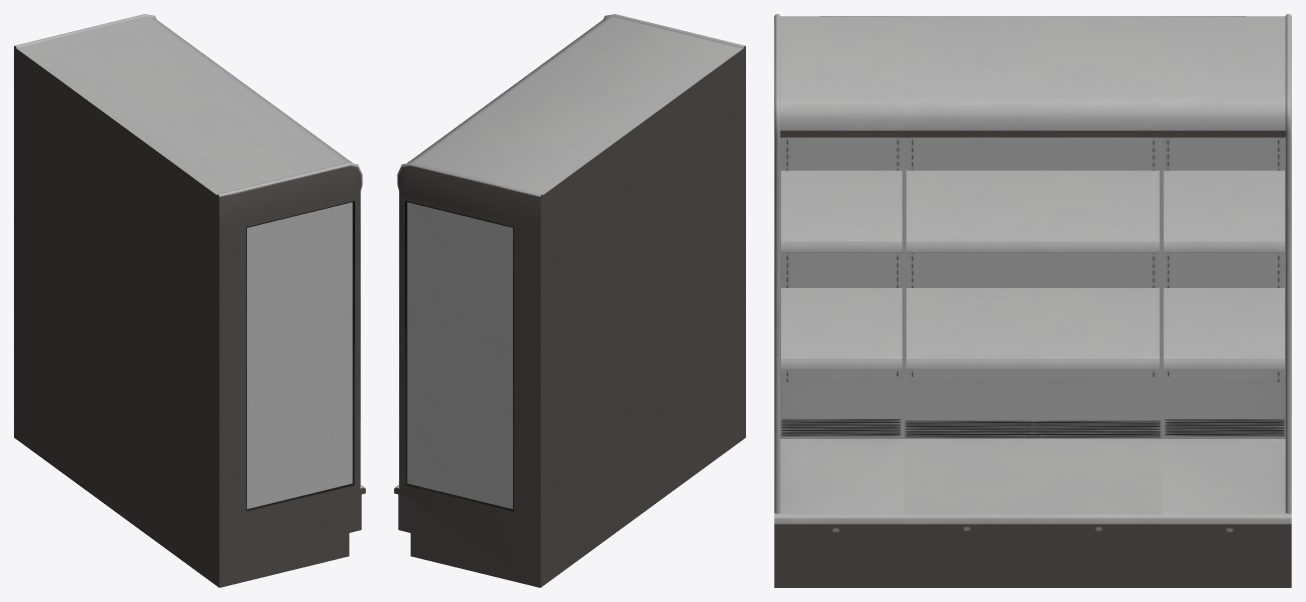
File: big_fridge (5).fbx
3 views of the same model, side by side, from view 1: azimuth 30°, elevation 25°; view 2: azimuth 150°, elevation 25°; view 3: azimuth 270°, elevation 25° (orthographic). The views are drawn at different scales.
Parts seen in each view (by area): view 1: big_fridge_l, big_fridge_m, big_fridge_r; view 2: big_fridge_r, big_fridge_m, big_fridge_l; view 3: big_fridge_m, big_fridge_l, big_fridge_r, big_fridge_shelf_m_1, big_fridge_shelf_m, big_fridge_shelf_l__1_, big_fridge_shelf_r_1, big_fridge_shelf_l, big_fridge_shelf_r.
Boxes of the visible parts, x1,y1,x2,y2 form: big_fridge_l: [168, 127, 365, 587]; big_fridge_m: [65, 52, 306, 549]; big_fridge_r: [14, 14, 203, 474]; big_fridge_r: [394, 127, 591, 587]; big_fridge_m: [453, 52, 694, 549]; big_fridge_l: [556, 14, 745, 474]; big_fridge_m: [903, 16, 1162, 587]; big_fridge_l: [774, 14, 903, 587]; big_fridge_r: [1162, 14, 1291, 587]; big_fridge_shelf_m_1: [906, 170, 1159, 252]; big_fridge_shelf_m: [906, 288, 1159, 369]; big_fridge_shelf_l__1_: [781, 170, 902, 252]; big_fridge_shelf_r_1: [1163, 170, 1284, 252]; big_fridge_shelf_l: [781, 288, 902, 369]; big_fridge_shelf_r: [1163, 288, 1284, 369].
Size of the model in its own units: 82.35 by 211 by 200.
